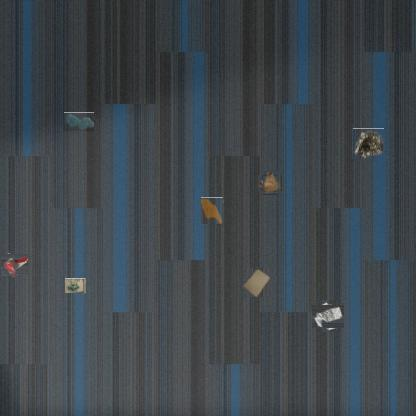dirty: (352, 128, 384, 159), (242, 267, 270, 297), (314, 302, 342, 330), (2, 253, 26, 278), (260, 173, 280, 193), (66, 278, 86, 293)
liquid: (202, 197, 224, 224), (64, 112, 94, 131)
